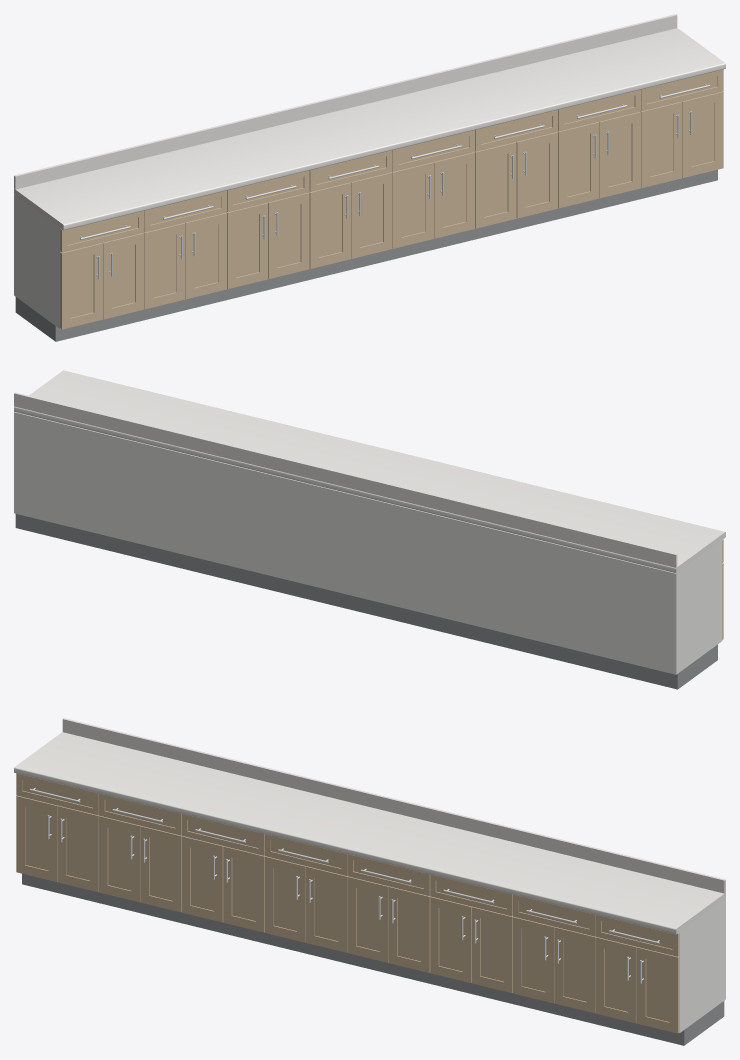
3 views of the same model, one above another, from view 1: azimuth 30°, elevation 25°; view 2: azimuth 150°, elevation 25°; view 3: azimuth 330°, elevation 25° (orthographic).
Parts seen in each view (by area): view 1: Tủ bếp dưới Dài=4800; Sâu=580; view 2: Tủ bếp dưới Dài=4800; Sâu=580; view 3: Tủ bếp dưới Dài=4800; Sâu=580.
Boxes of the visible parts, <box> form: Tủ bếp dưới Dài=4800; Sâu=580: <box>14,14,725,341</box>; Tủ bếp dưới Dài=4800; Sâu=580: <box>14,370,725,689</box>; Tủ bếp dưới Dài=4800; Sâu=580: <box>14,718,725,1045</box>.
Size of the model in its own units: 4.8 by 0.94 by 0.635.
